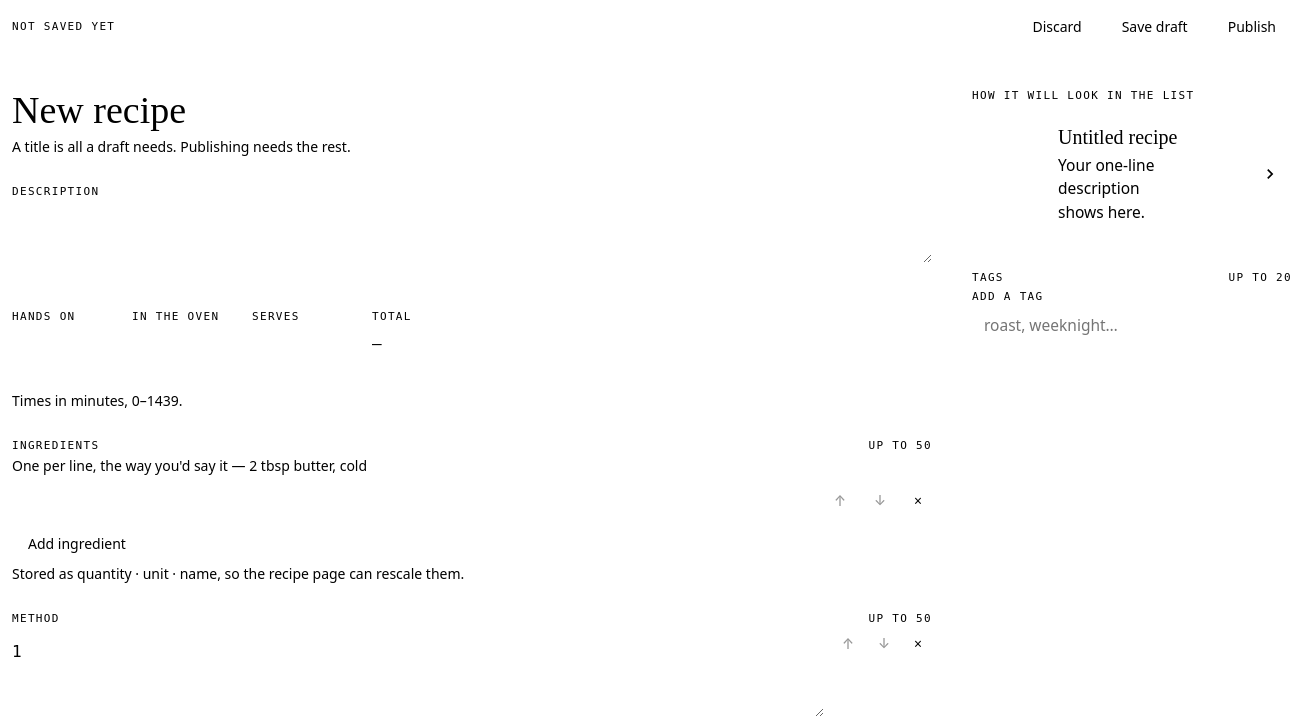
Test case: RecipeFormPage — new recipe › keeps the edits and shows a generic message when the network fails
Step 1. Type "Offline soup" into the field named "Recipe title" → (472, 113), box x1=12 y1=90 x2=932 y2=136
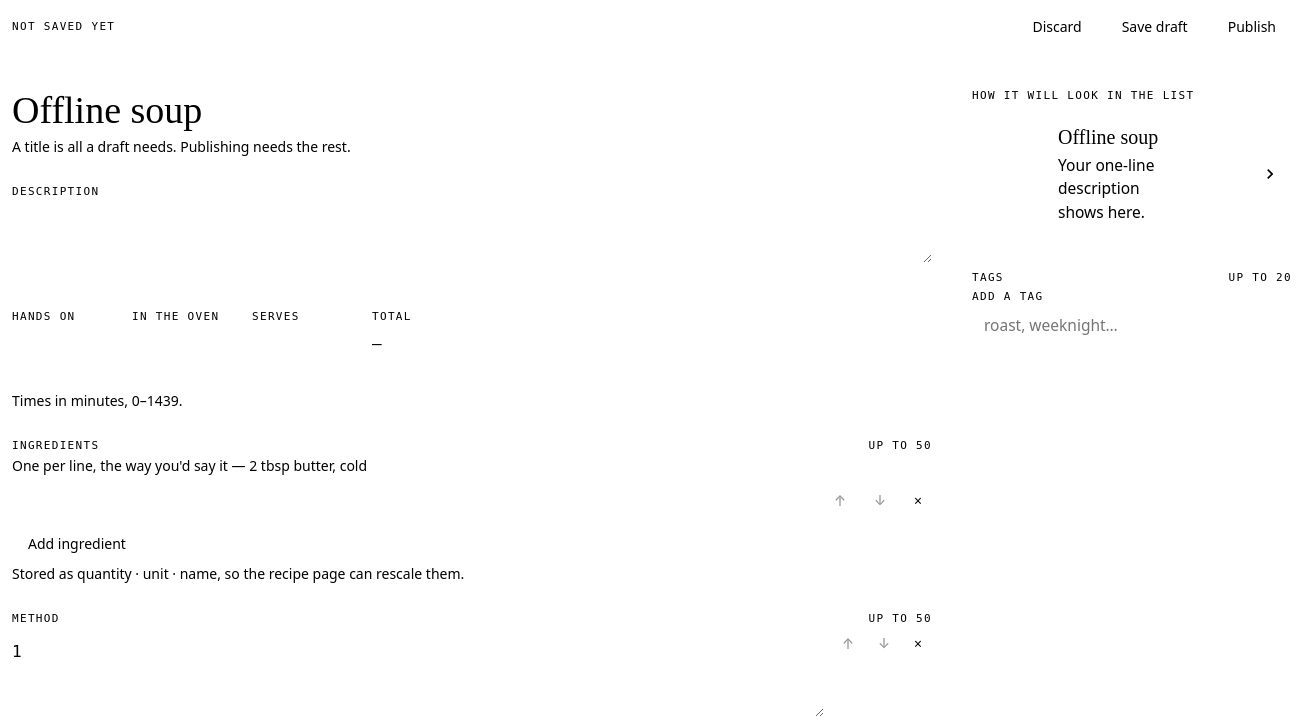
Step 2. Click the button "Save draft" → (1155, 27), box x1=1106 y1=12 x2=1204 y2=42
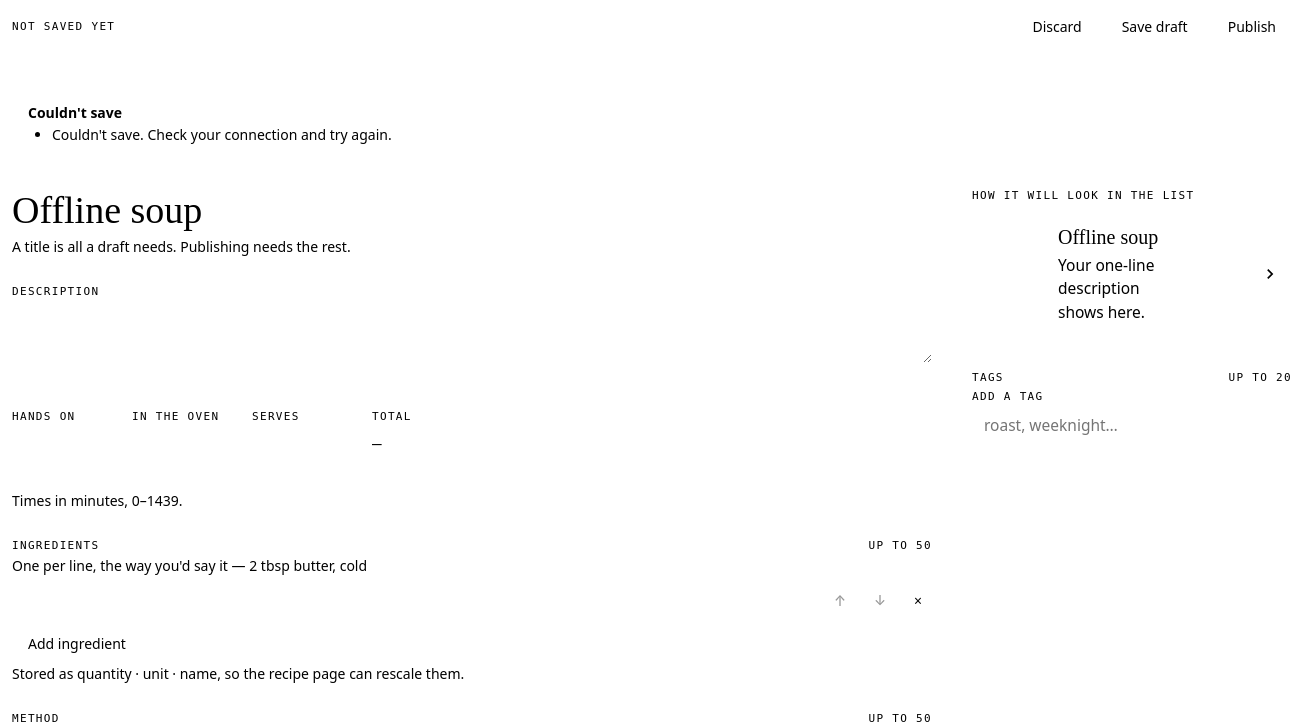
Expected: the list item "Couldn't save. Check your connection and try again." is shown, x1=52 y1=125 x2=392 y2=144
